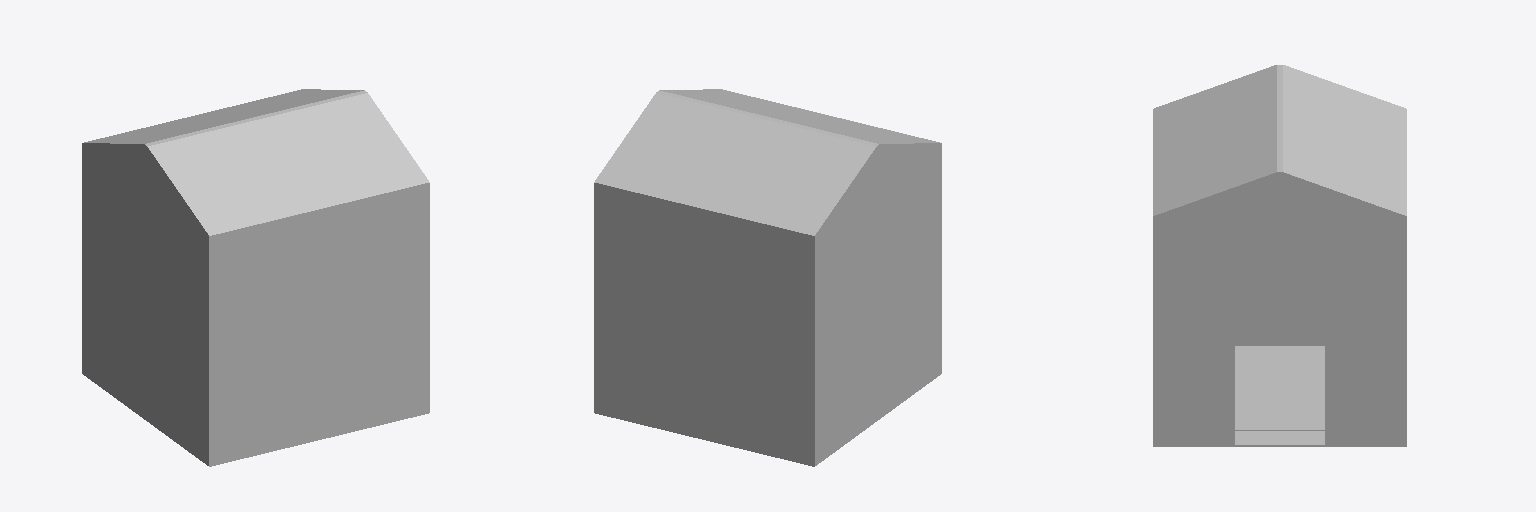
The model's file is haus.obj.
3 views of the same model, side by side, from view 1: azimuth 30°, elevation 25°; view 2: azimuth 150°, elevation 25°; view 3: azimuth 270°, elevation 25° (orthographic).
Visible parts, largest first — view 1: Cube; view 2: Cube; view 3: Cube.
Boxes of the visible parts, <box> form: Cube: <box>82,89,429,466</box>; Cube: <box>594,89,941,466</box>; Cube: <box>1153,65,1406,446</box>.
Bounding box in the file's own units: 4 × 4.77 × 4.